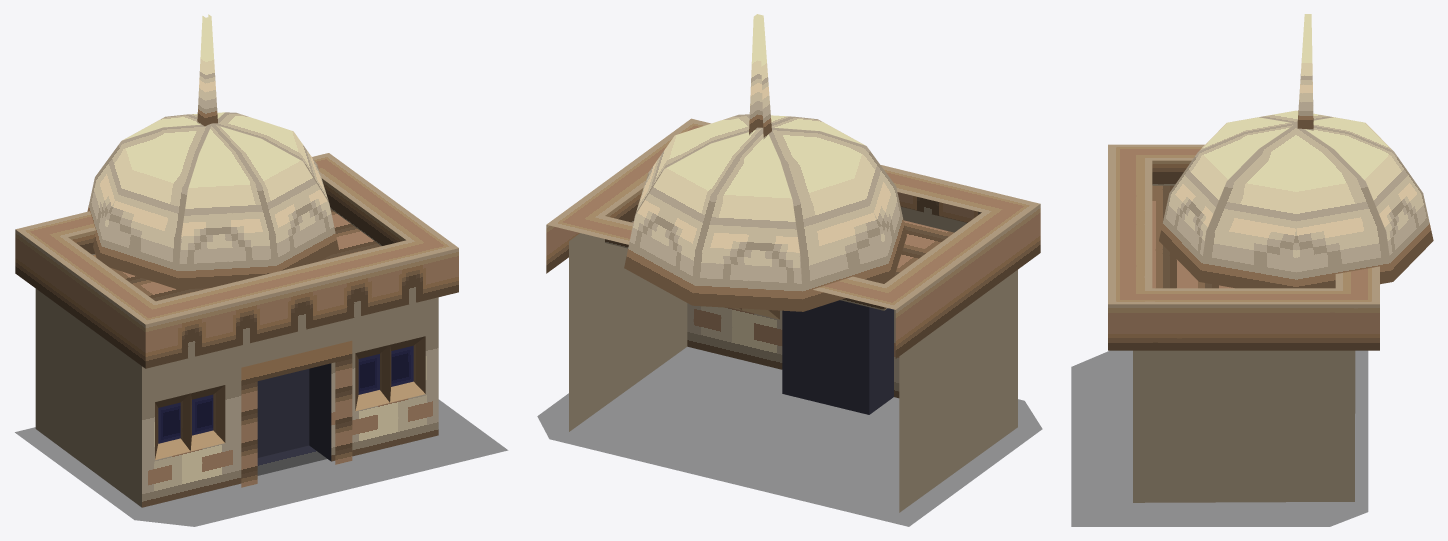
Rendered from House_of_Memories_obj.glb.
3 views of the same model, side by side, from view 1: azimuth 30°, elevation 25°; view 2: azimuth 150°, elevation 25°; view 3: azimuth 270°, elevation 25° (orthographic). The views are drawn at different scales.
Visible parts, largest first — view 1: House_of_Memories_obj; view 2: House_of_Memories_obj; view 3: House_of_Memories_obj.
Boxes of the visible parts, x1,y1,x2,y2 form: House_of_Memories_obj: (15,14,507,526); House_of_Memories_obj: (537,14,1042,526); House_of_Memories_obj: (1071,14,1433,526).
Bounding box in the file's own units: 91.77 × 99 × 78.23.
3 materials, 3 textured.
